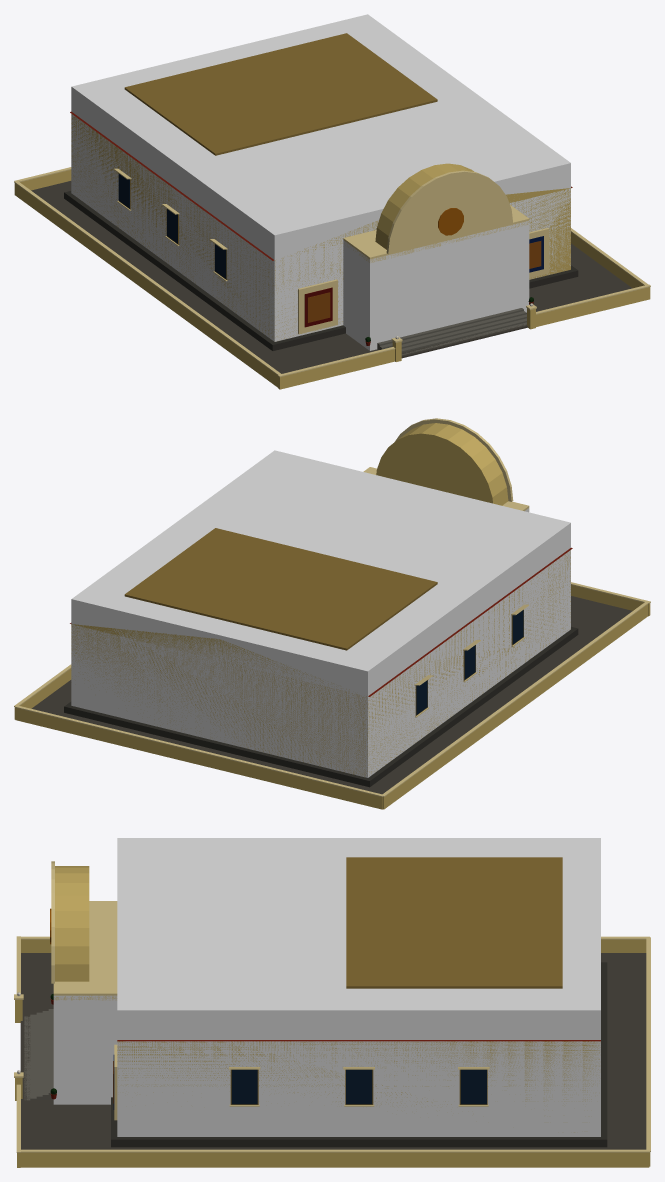
The model's file is B38_auditorium_hall.glb.
3 renders of one model, top to bottom at view 1: azimuth 30°, elevation 25°; view 2: azimuth 150°, elevation 25°; view 3: azimuth 270°, elevation 25°, orthographic. The views are drawn at different scales.
Parts seen in each view (by area): view 1: LOD0, COL_Main, COL_Verandah; view 2: COL_Main, LOD0; view 3: COL_Main, LOD0, COL_Verandah.
Boxes of the visible parts, <box> form: LOD0: <box>14,33,650,389</box>; COL_Main: <box>71,14,570,341</box>; COL_Verandah: <box>343,221,529,350</box>; COL_Main: <box>71,450,570,777</box>; LOD0: <box>14,418,650,809</box>; COL_Main: <box>117,838,600,1136</box>; LOD0: <box>14,857,650,1167</box>; COL_Verandah: <box>53,995,117,1104</box>.
Size of what is drawn, in the model's own units: 40.08 by 16.55 by 50.06.
